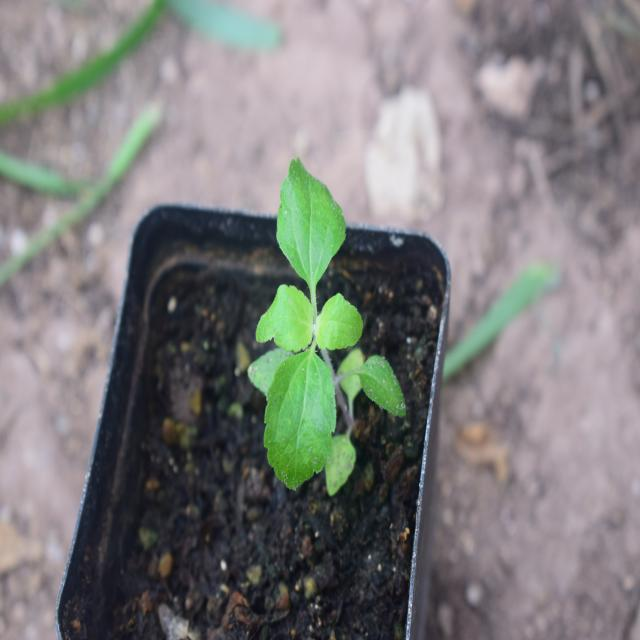billygoat_weed: (242, 158, 405, 484)
